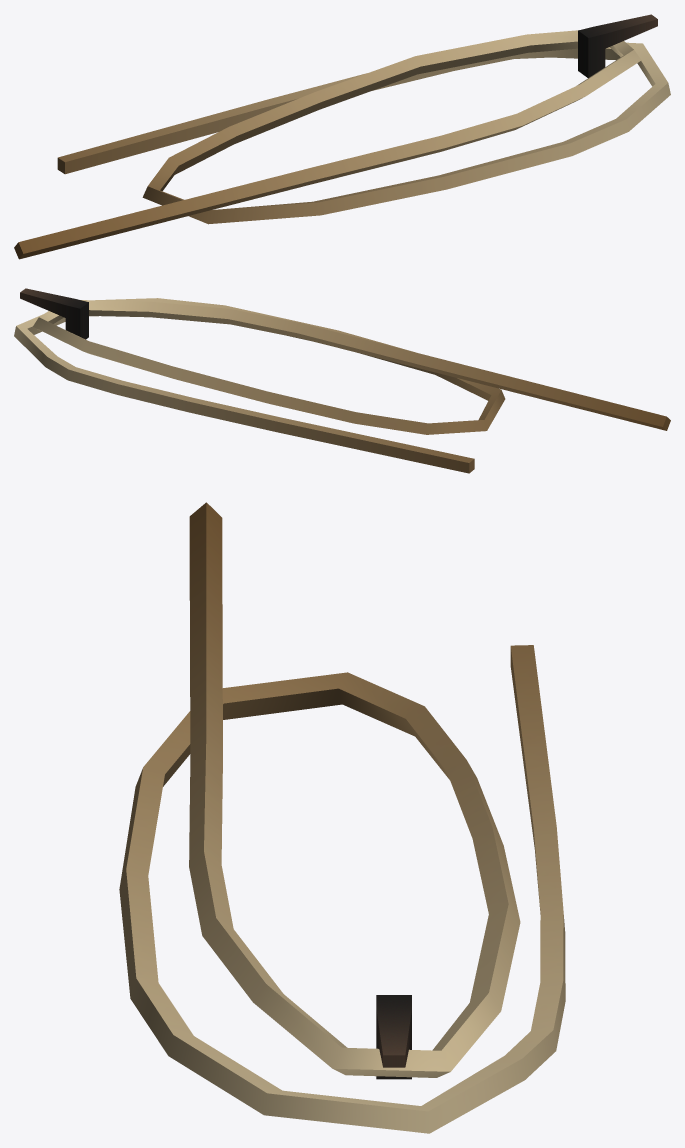
The model's file is rope.FBX.
The picture shows the model from 3 angles, top to bottom: view 1: azimuth 30°, elevation 25°; view 2: azimuth 150°, elevation 25°; view 3: azimuth 270°, elevation 25°; orthographic projection. The views are drawn at different scales.
Parts seen in each view (by area): view 1: rope; view 2: rope; view 3: rope.
Part boxes in pixels (left/top/right/bottom): rope: left=14, top=14, right=670, bottom=259; rope: left=14, top=288, right=670, bottom=473; rope: left=119, top=502, right=565, bottom=1133.
Size of the model in its own units: 23.5 by 1.57 by 7.6.
